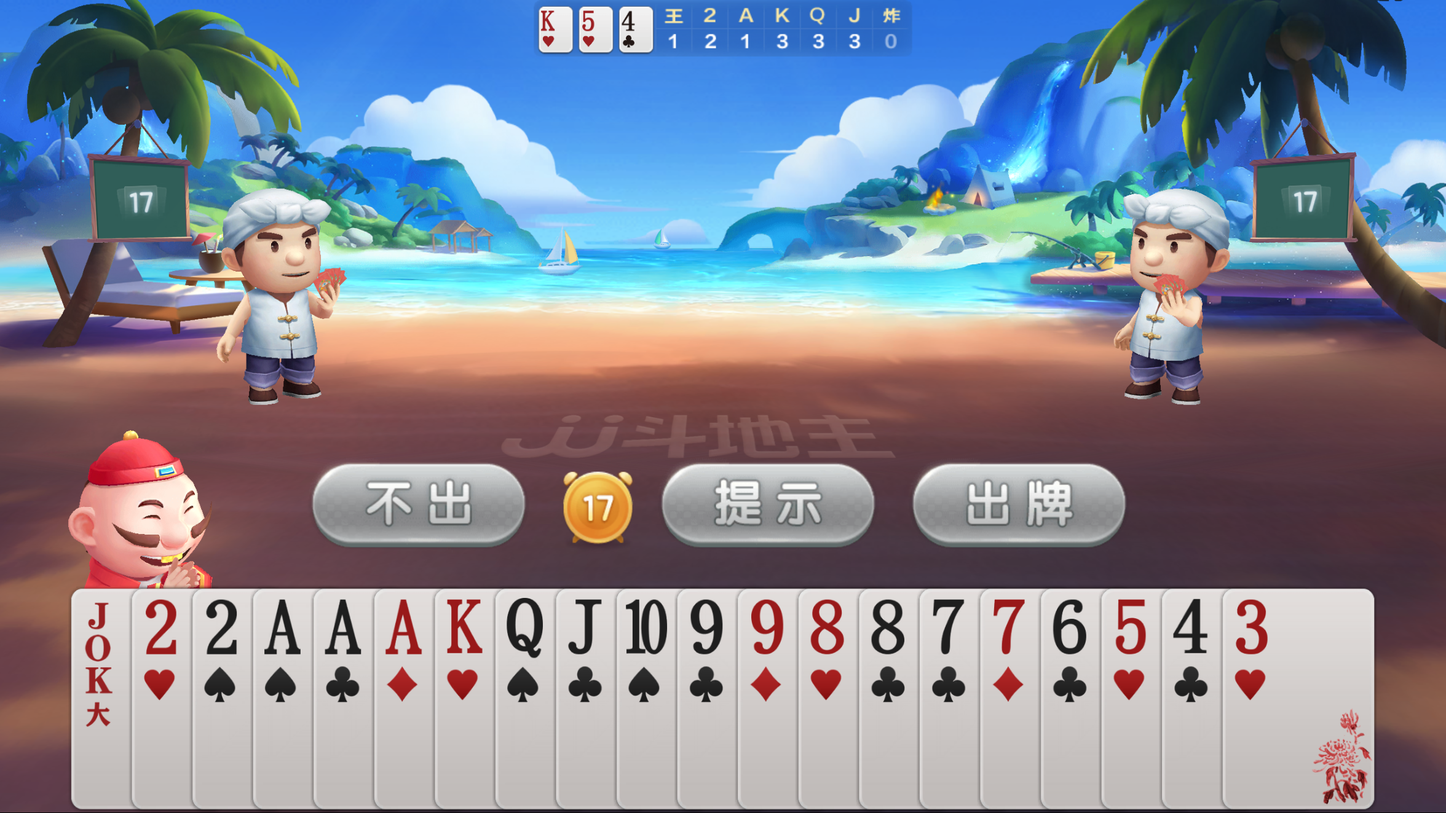A: (318, 594, 369, 663), (257, 595, 308, 663), (378, 595, 429, 661)
J: (559, 595, 607, 664)
JOKER: (74, 595, 123, 699)
K: (438, 593, 489, 661), (533, 5, 562, 36)
Q: (500, 595, 548, 662)
eight: (864, 595, 915, 663), (804, 596, 853, 662)
five: (1107, 595, 1155, 660), (579, 3, 601, 36)
four: (1167, 594, 1217, 663), (618, 4, 642, 34)
nine: (681, 595, 732, 662), (741, 595, 792, 662)
seven: (924, 594, 972, 664), (984, 594, 1032, 661)
six: (1046, 594, 1096, 662)
ten: (620, 595, 671, 663)
three: (1227, 595, 1278, 661)
two: (197, 595, 247, 664), (137, 597, 186, 660)
